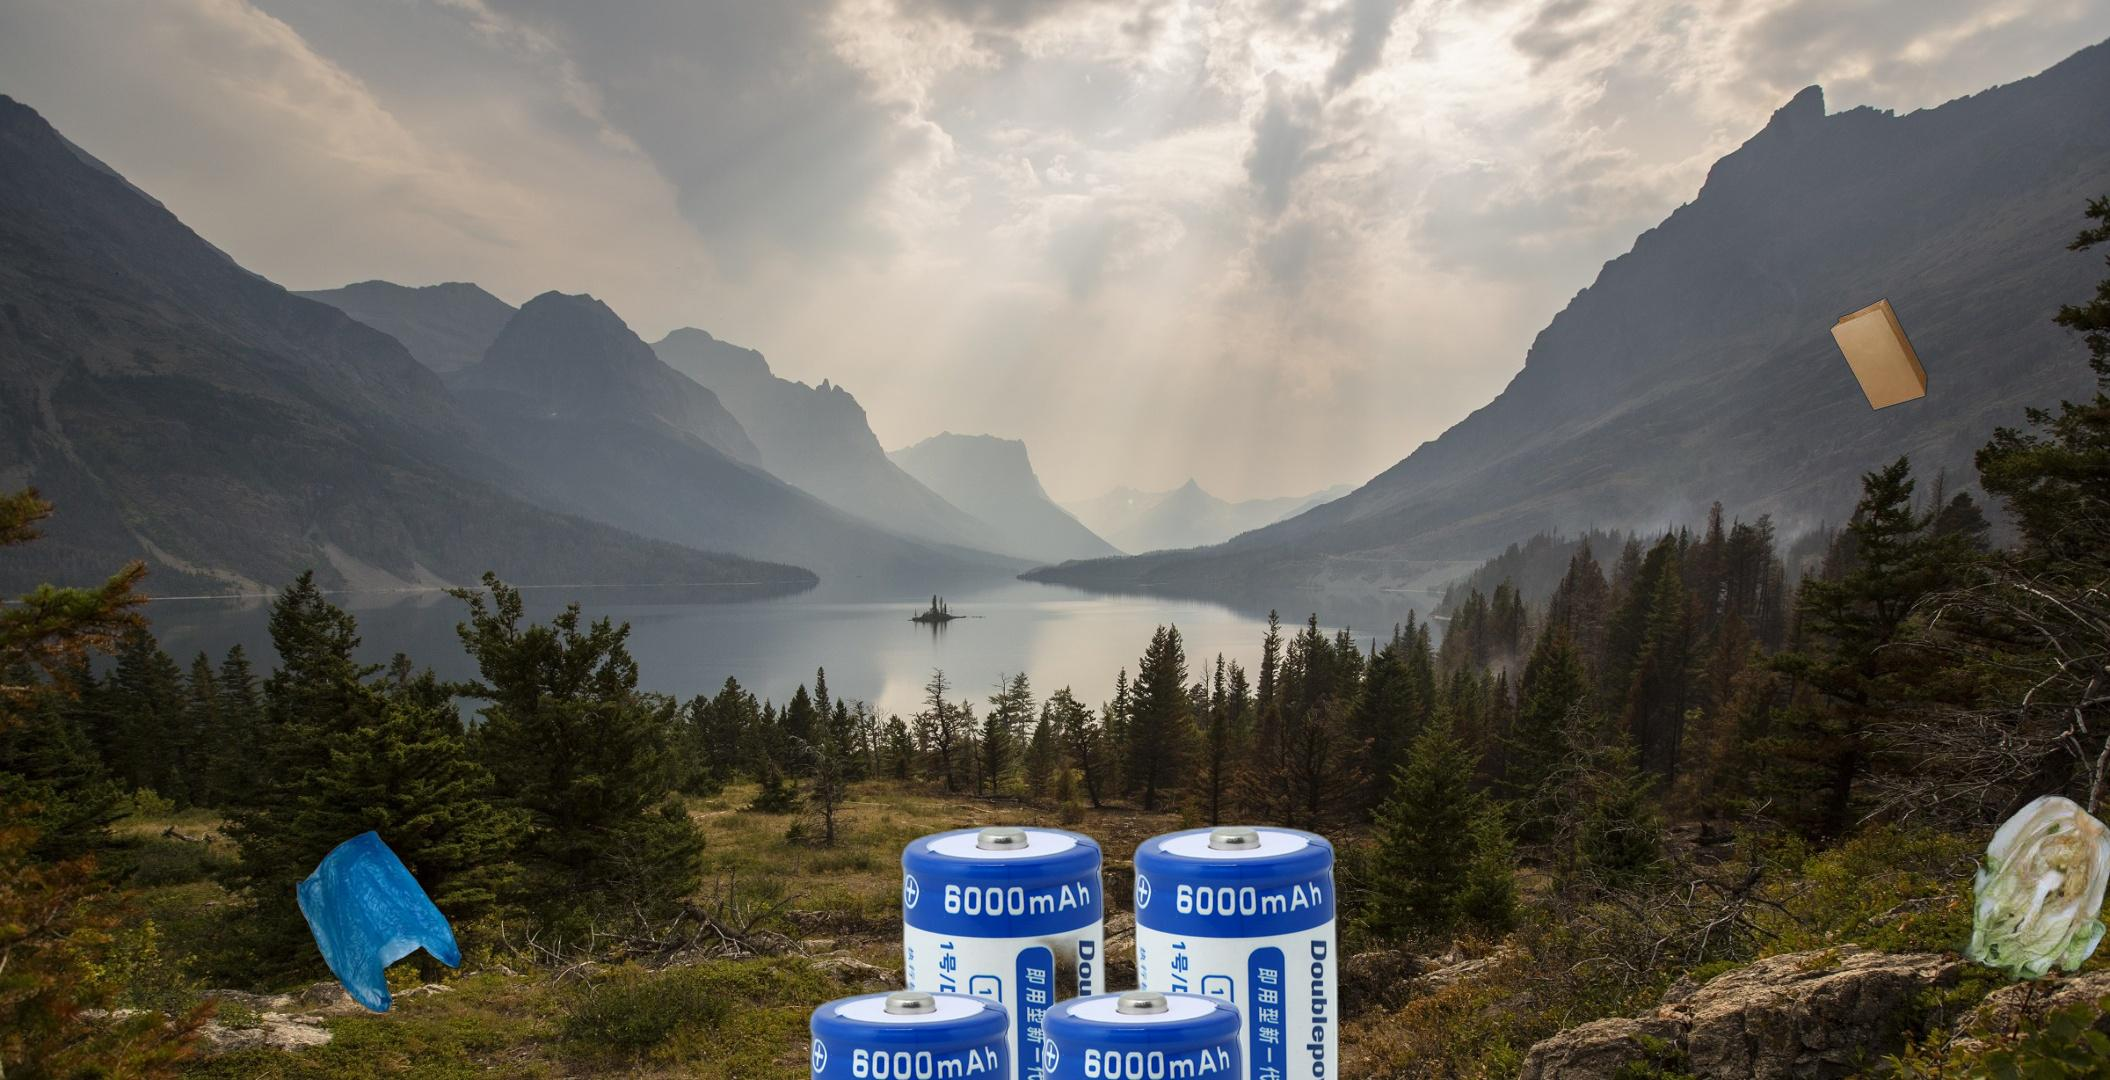battery: (802, 818, 1346, 1080)
biological: (1892, 792, 2110, 985)
glass: (1073, 1021, 1383, 1080)
paper-bag: (1829, 146, 2110, 413)
plastic-bag: (293, 828, 466, 1017)
